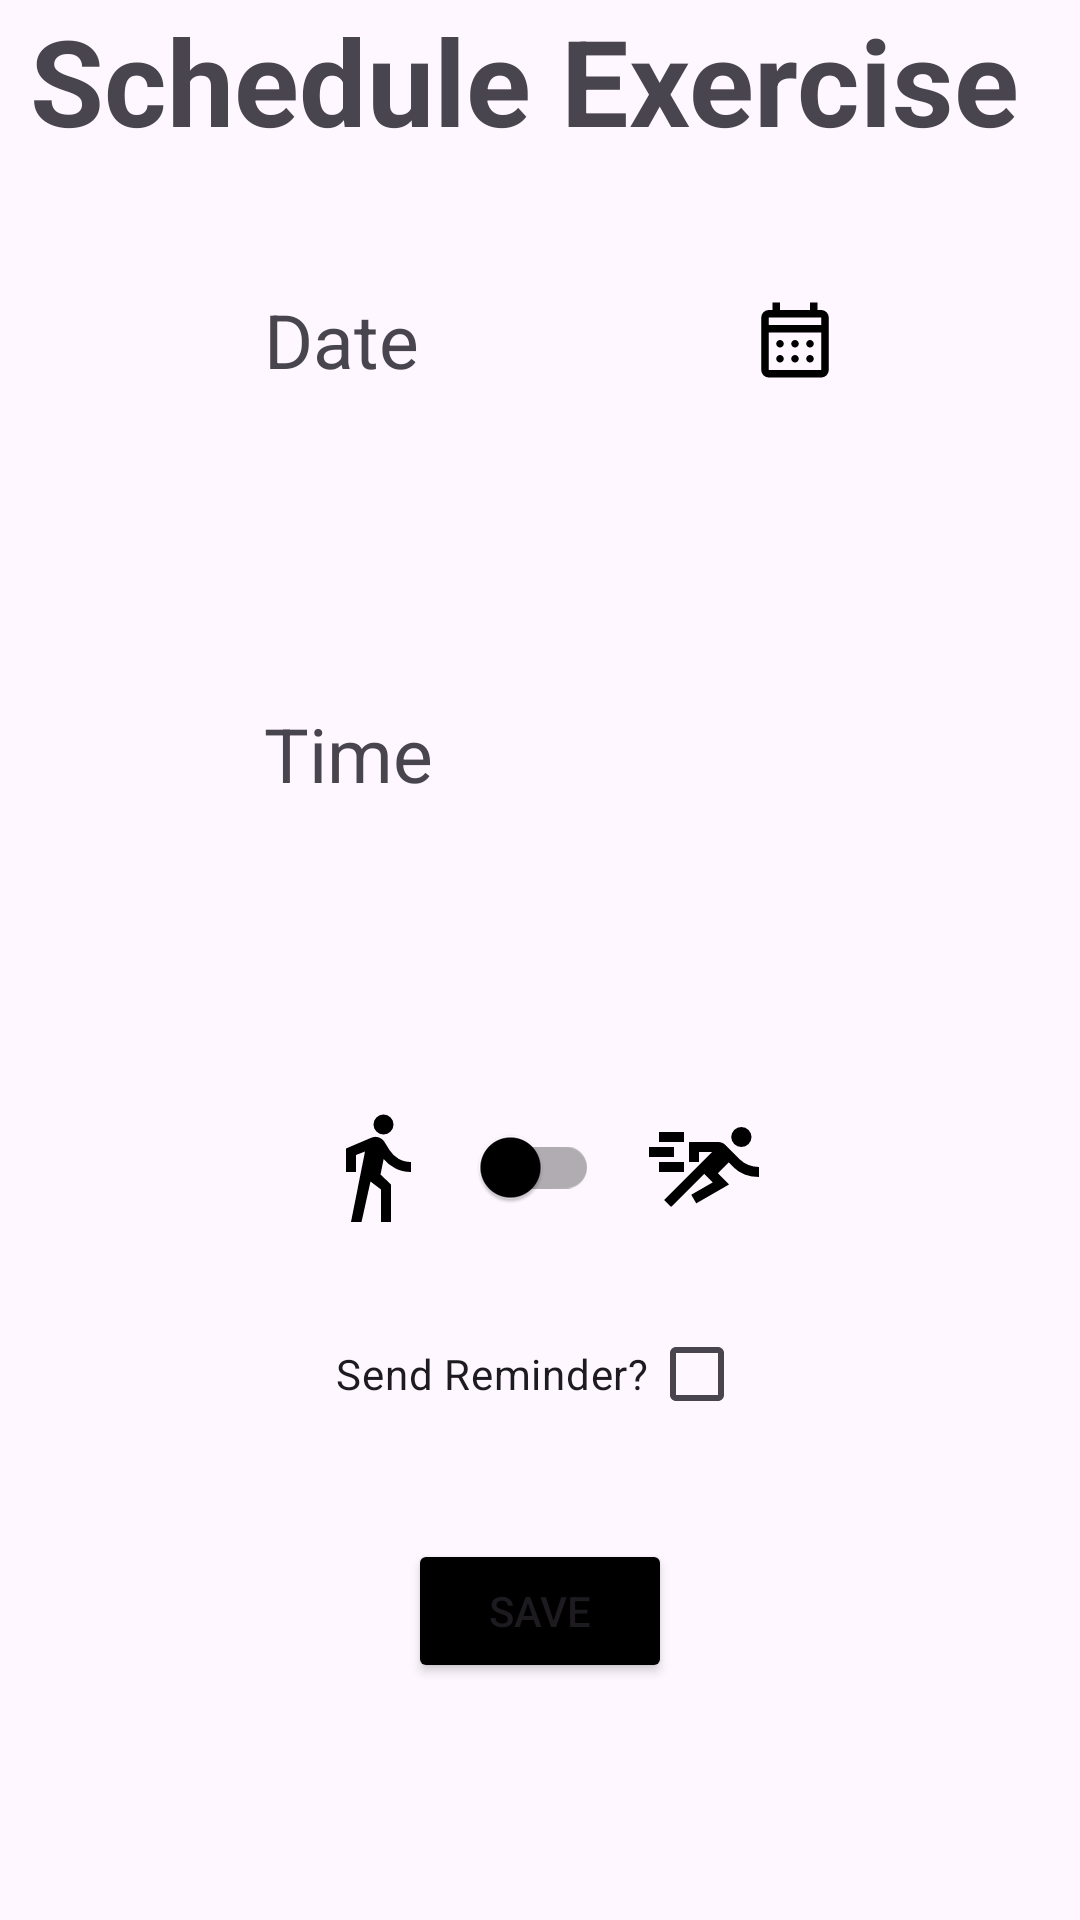

Named icons in this screenshot (1080px x 1920px) and their bounding boxes, region(x1, y1, x2, y2):
Run Icon: region(649, 1127, 759, 1207)
Walk Icon: region(346, 1114, 411, 1222)
